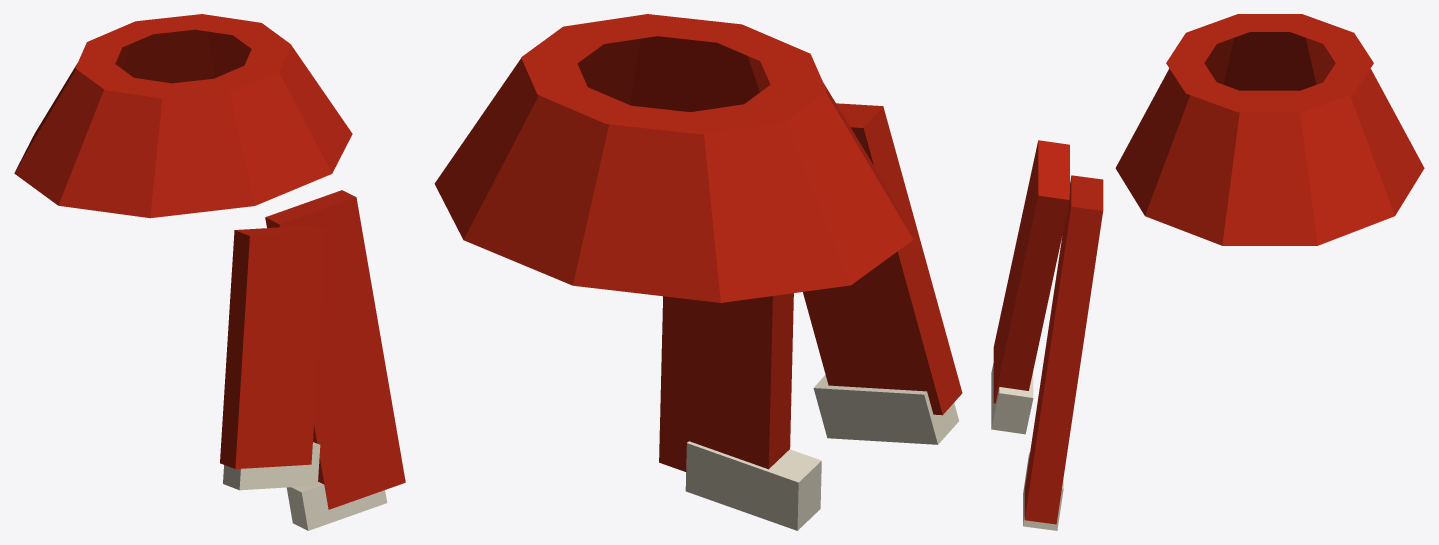
Rendered from scarf.glb.
3 views of the same model, side by side, from view 1: azimuth 30°, elevation 25°; view 2: azimuth 150°, elevation 25°; view 3: azimuth 270°, elevation 25° (orthographic). The views are drawn at different scales.
Parts seen in each view (by area): view 1: scarf; view 2: scarf; view 3: scarf.
Boxes of the visible parts, x1=… form: scarf: x1=14, y1=14, x2=405, y2=530; scarf: x1=434, y1=14, x2=962, y2=530; scarf: x1=991, y1=14, x2=1424, y2=530.
Size of the model in its own units: 0.2853 by 0.3681 by 0.3363.
Materials: 1 (1 with a texture image).
